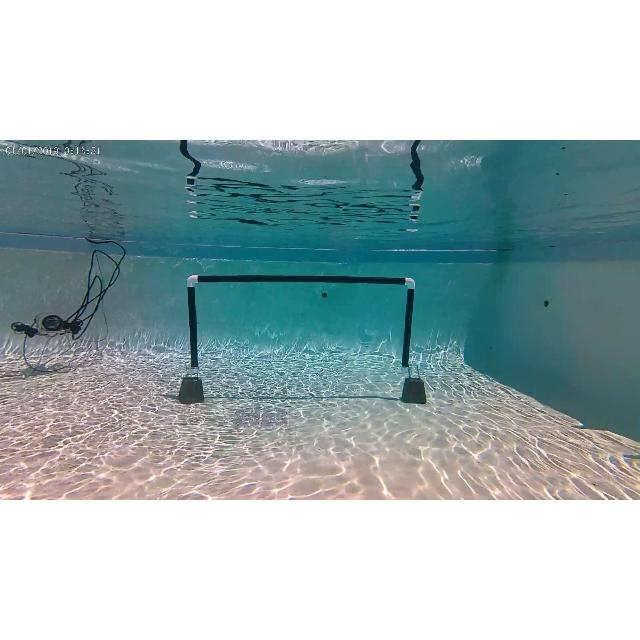prequal gate: (188, 274, 416, 372)
prequal gate leg l: (186, 274, 204, 376)
prequal gate leg r: (402, 274, 414, 372)
